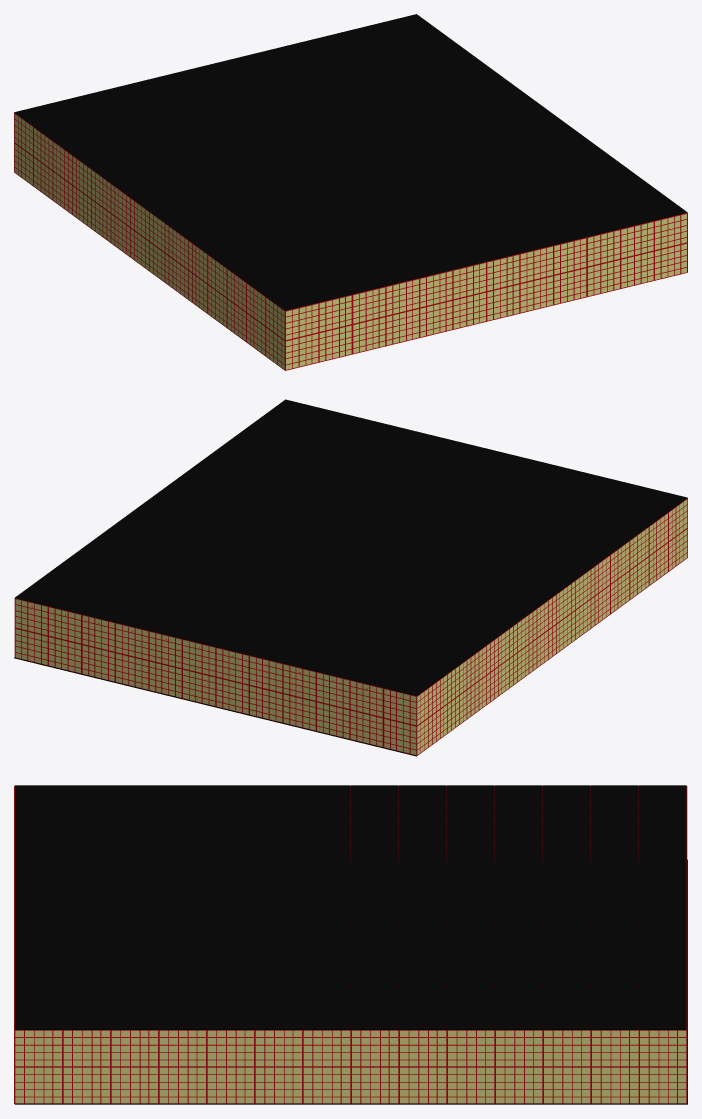
Rendered from Room.fbx.
3 renders of one model, top to bottom at view 1: azimuth 30°, elevation 25°; view 2: azimuth 150°, elevation 25°; view 3: azimuth 270°, elevation 25°, orthographic. The views are drawn at different scales.
Parts seen in each view (by area): view 1: Room; view 2: Room; view 3: Room.
Boxes of the visible parts, x1,y1,x2,y2 form: Room: [14, 14, 687, 370]; Room: [14, 399, 687, 756]; Room: [14, 785, 687, 1104].
Bounding box in the file's own units: 5416 × 777 × 6323.
